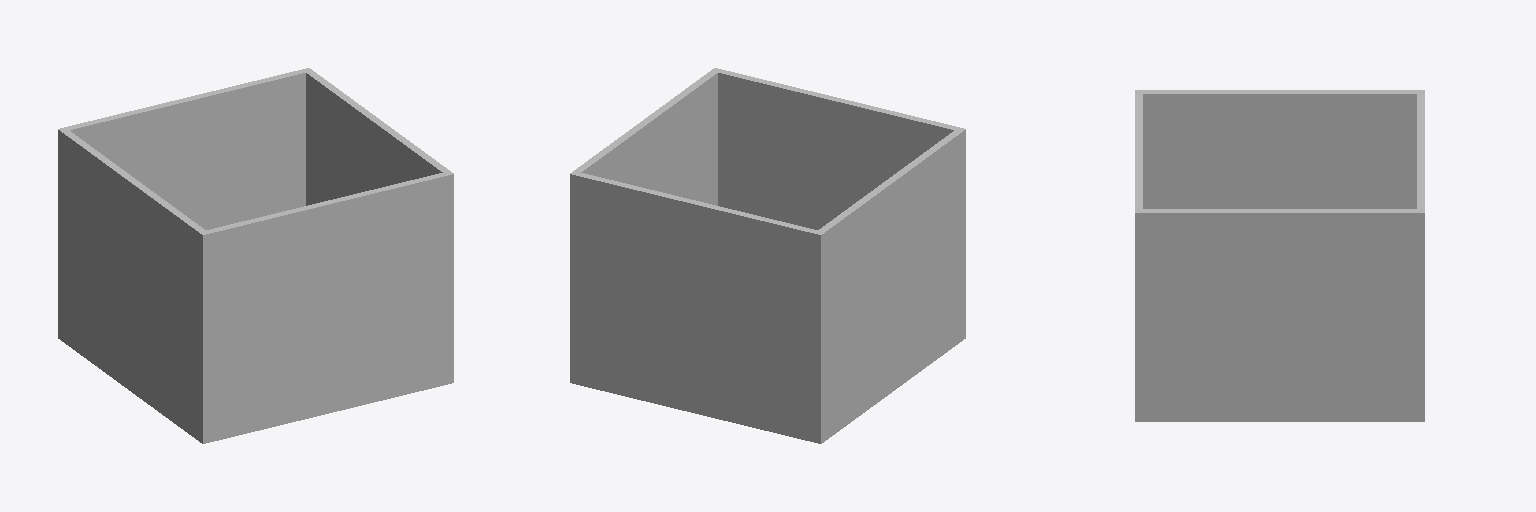
Rendered from bin-deep012.obj.
The picture shows the model from 3 angles: view 1: azimuth 30°, elevation 25°; view 2: azimuth 150°, elevation 25°; view 3: azimuth 270°, elevation 25°; orthographic projection.
Parts seen in each view (by area): view 1: Cube_Cube.006; view 2: Cube_Cube.006; view 3: Cube_Cube.006.
Part boxes in pixels (x1,y1,x2,y2): Cube_Cube.006: (58, 68, 453, 443); Cube_Cube.006: (570, 68, 965, 443); Cube_Cube.006: (1135, 90, 1424, 421).
Size of the model in its own units: 0.17 by 0.135 by 0.17.